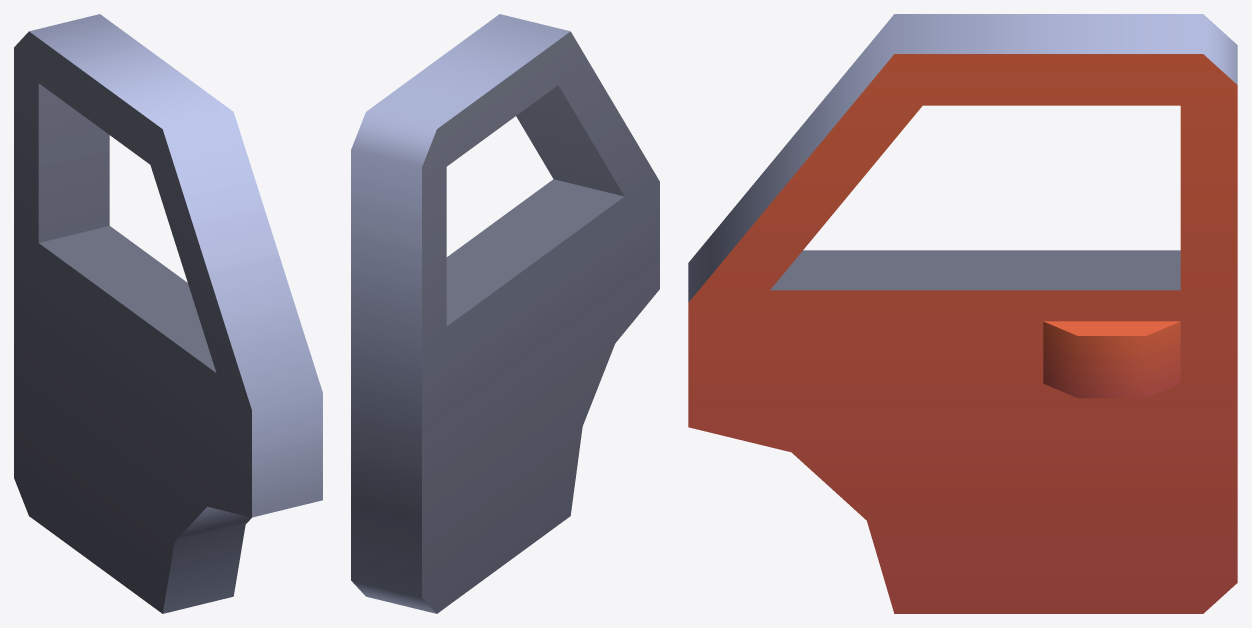
File: debris-door.glb
The picture shows the model from 3 angles, left to right: view 1: azimuth 30°, elevation 25°; view 2: azimuth 150°, elevation 25°; view 3: azimuth 270°, elevation 25°; orthographic projection. The views are drawn at different scales.
Visible parts, largest first — view 1: debris-door; view 2: debris-door; view 3: debris-door.
Part boxes in pixels (x1,y1,x2,y2): debris-door: (14, 14, 322, 613); debris-door: (351, 14, 659, 613); debris-door: (688, 14, 1237, 613).
Bounding box in the file's own units: 0.188 × 0.9 × 0.8.
1 material, 1 textured.
